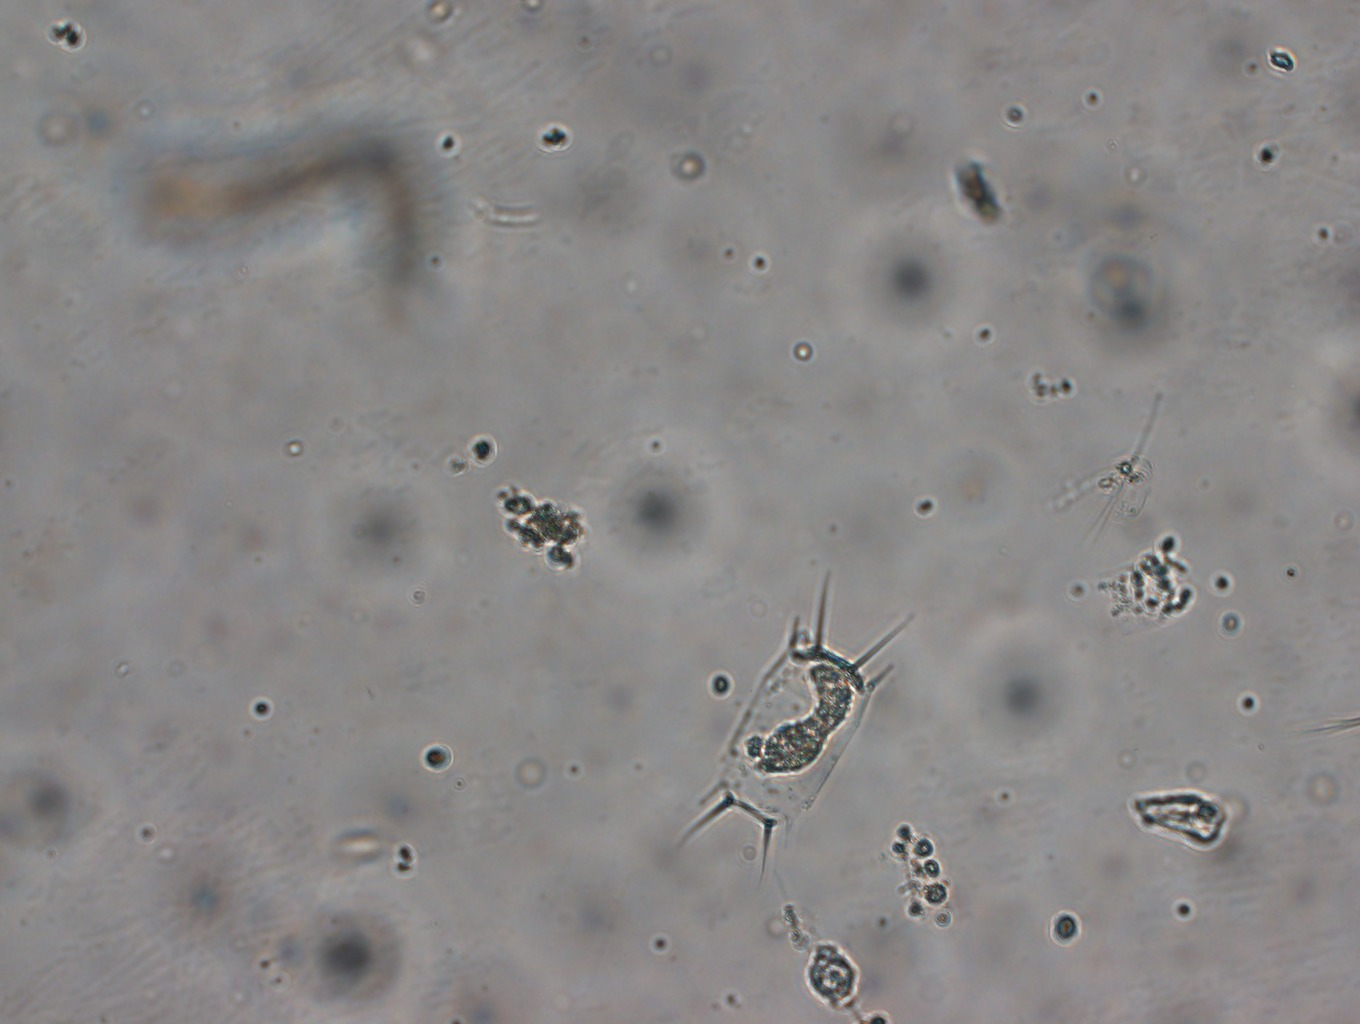biddulphia: (676, 569, 918, 892)
